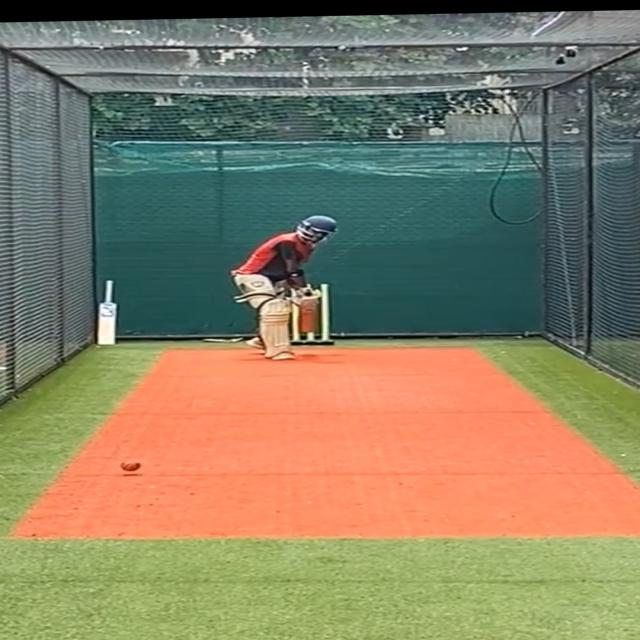ball: (114, 456, 145, 474)
stump: (287, 282, 336, 346)
